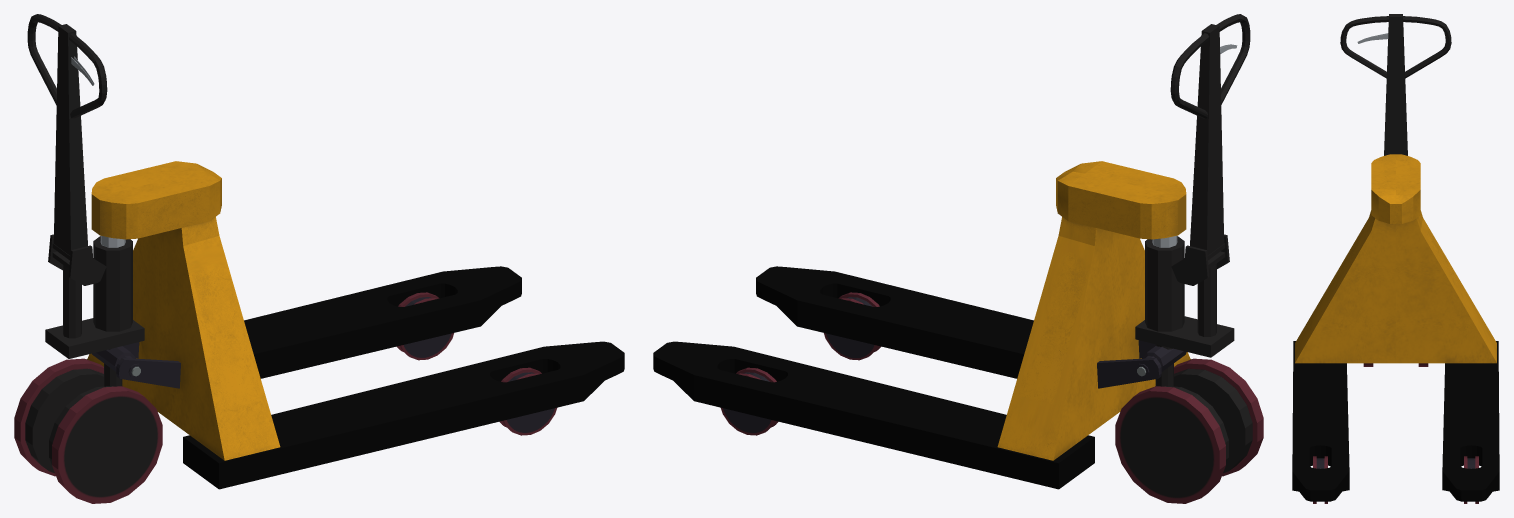
File: PalletJackB_01.glb
3 renders of one model, left to right at view 1: azimuth 30°, elevation 25°; view 2: azimuth 150°, elevation 25°; view 3: azimuth 270°, elevation 25°, orthographic. The views are drawn at different scales.
Visible parts, largest first — view 1: aws_robomaker_warehouse_PalletJackB_01_visual; view 2: aws_robomaker_warehouse_PalletJackB_01_visual; view 3: aws_robomaker_warehouse_PalletJackB_01_visual.
Part boxes in pixels (box(x1,y1,x2,y2)): aws_robomaker_warehouse_PalletJackB_01_visual: box(14, 14, 624, 503); aws_robomaker_warehouse_PalletJackB_01_visual: box(653, 14, 1263, 503); aws_robomaker_warehouse_PalletJackB_01_visual: box(1292, 14, 1499, 503).
Bounding box in the file's own units: 1.15 × 0.9642 × 0.5317.
2 materials, 2 textured.
